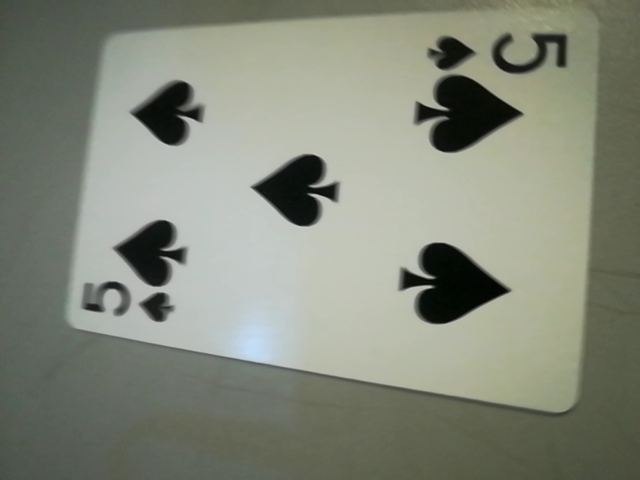ht 5: (413, 23, 583, 88)
